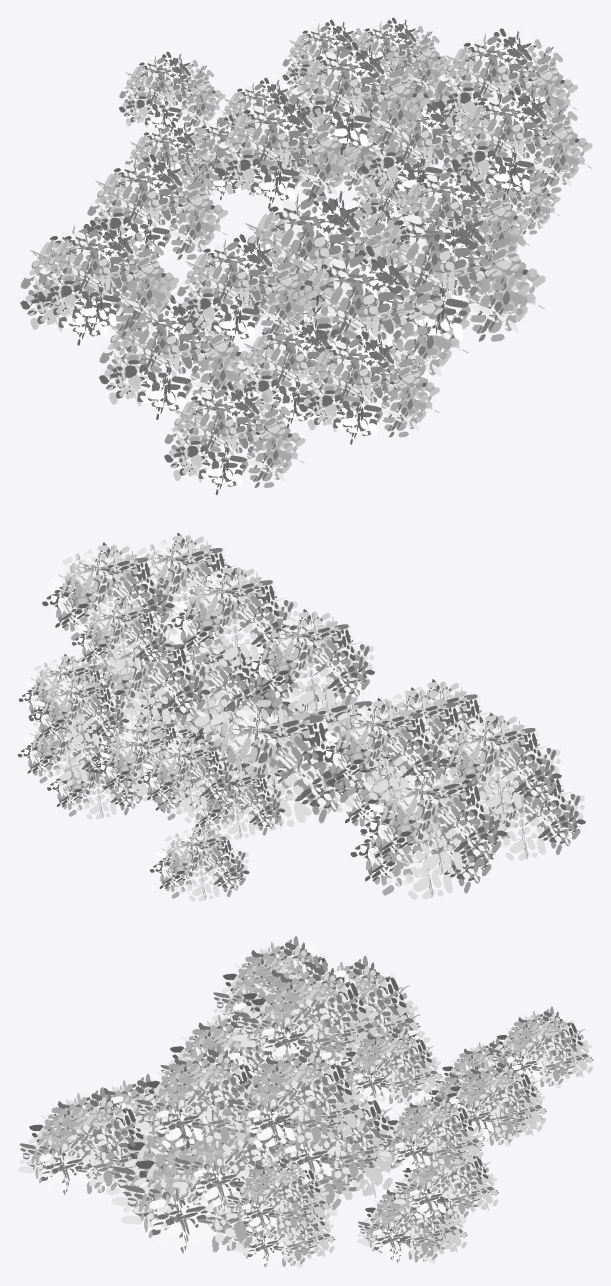
Rendered from grass.glb.
The picture shows the model from 3 angles, top to bottom: view 1: azimuth 30°, elevation 25°; view 2: azimuth 150°, elevation 25°; view 3: azimuth 270°, elevation 25°; orthographic projection. The views are drawn at different scales.
Parts seen in each view (by area): view 1: sn_tree_oak.005; view 2: sn_tree_oak.005; view 3: sn_tree_oak.005.
Part boxes in pixels (<box>): sn_tree_oak.005: <box>20,17,592,495</box>; sn_tree_oak.005: <box>17,533,585,901</box>; sn_tree_oak.005: <box>18,936,593,1267</box>.
Size of the model in its own units: 12.06 by 6.69 by 11.56.
Materials: 1 (1 with a texture image).
